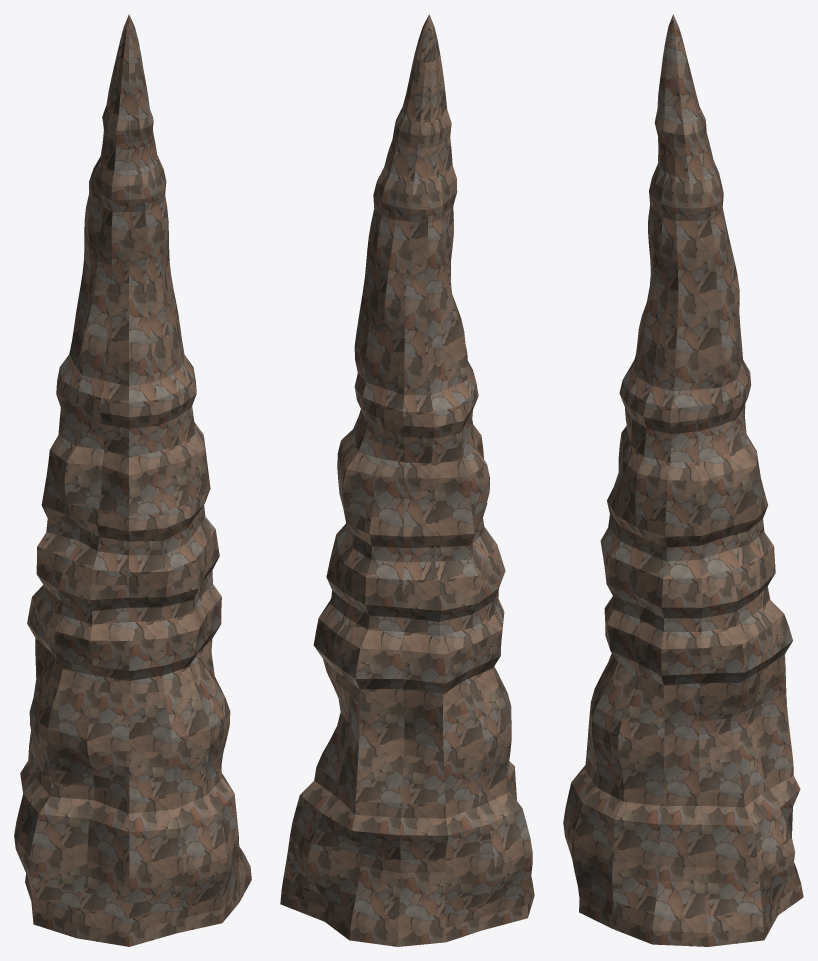
The model's file is CanyonSpireL.gltf.
3 renders of one model, left to right at view 1: azimuth 30°, elevation 25°; view 2: azimuth 150°, elevation 25°; view 3: azimuth 270°, elevation 25°, orthographic.
Parts seen in each view (by area): view 1: CanyonSpireL; view 2: CanyonSpireL; view 3: CanyonSpireL.
Part boxes in pixels (x1,y1,x2,y2): CanyonSpireL: (14, 14, 251, 946); CanyonSpireL: (280, 14, 534, 946); CanyonSpireL: (563, 14, 803, 946).
Size of the model in its own units: 33.58 by 130 by 32.32.
Materials: 1 (1 with a texture image).
